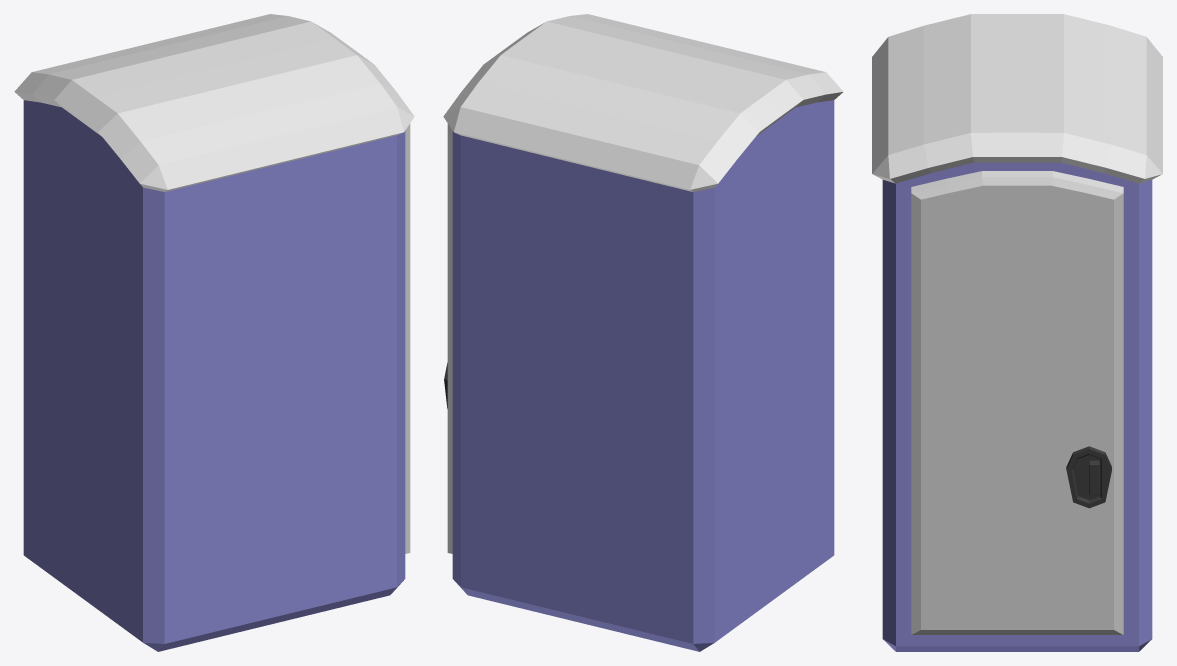
File: toilet_a.glb
The picture shows the model from 3 angles, left to right: view 1: azimuth 30°, elevation 25°; view 2: azimuth 150°, elevation 25°; view 3: azimuth 270°, elevation 25°; orthographic projection.
Parts seen in each view (by area): view 1: Toilet A2; view 2: Toilet A2; view 3: Toilet A2.
Boxes of the visible parts, x1,y1,x2,y2 form: Toilet A2: (14, 14, 414, 651); Toilet A2: (443, 14, 843, 651); Toilet A2: (872, 14, 1162, 651).
Size of the model in its own units: 1.76 by 2.92 by 1.48.
